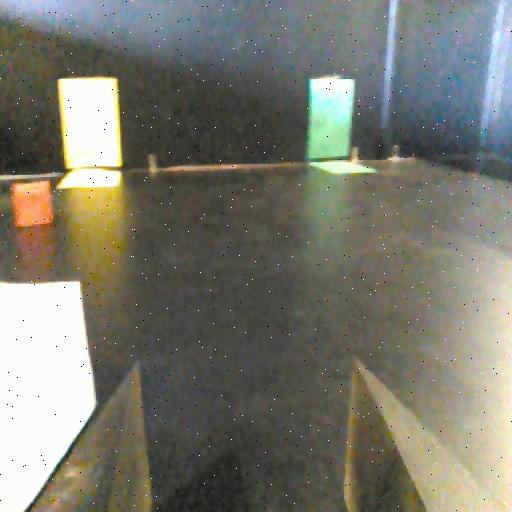cube: (14, 172, 52, 232)
